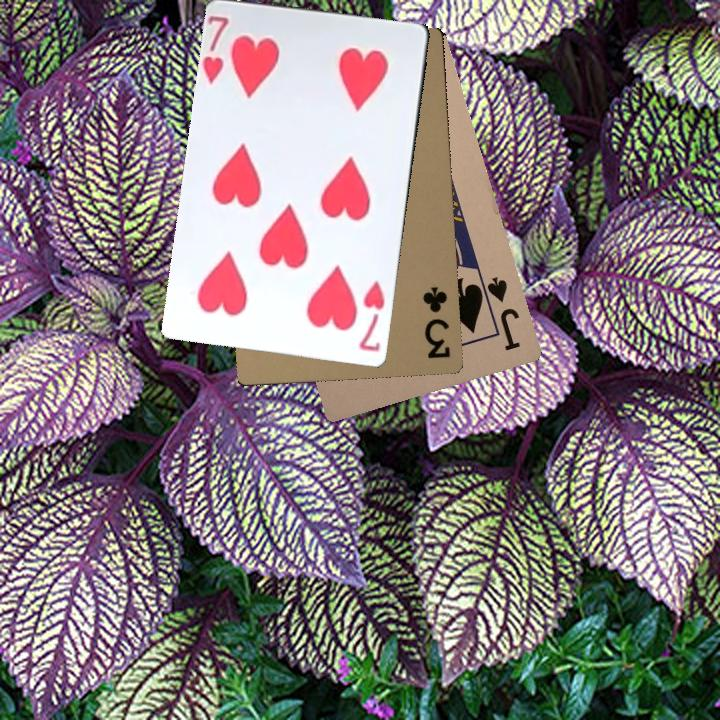3c: (418, 283, 453, 362)
7h: (355, 276, 388, 355), (200, 11, 231, 87)
Js: (476, 274, 523, 353)
